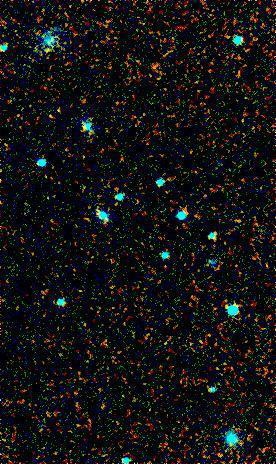star: (33, 38, 63, 68)
